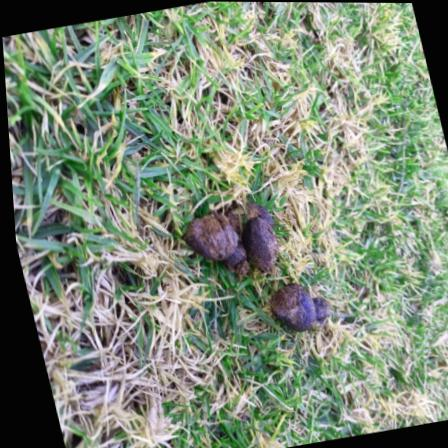dog-poop: (174, 177, 288, 283), (263, 280, 325, 333)
